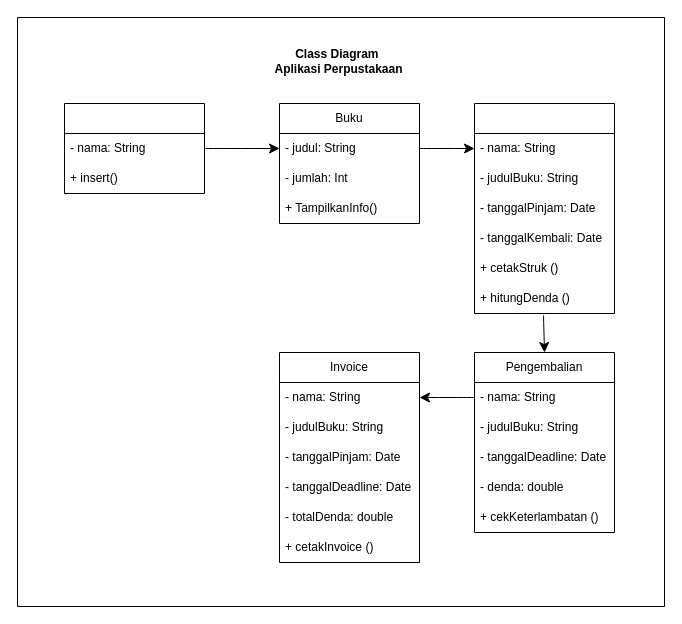
Some shapes in this 682 by 624 pixel diagram are drawn without their labels. Each missing label, with the box of its shape:
Peminjaman: (474, 102, 614, 314)
User: (64, 102, 204, 194)
